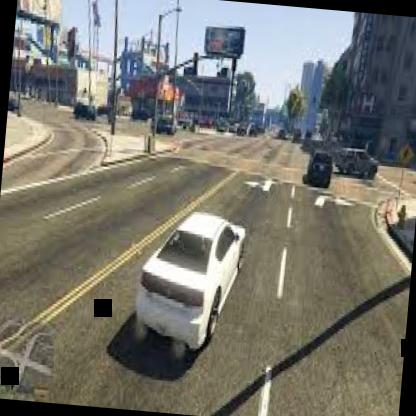car: (116, 189, 256, 363), (326, 122, 390, 190), (284, 138, 346, 206), (148, 110, 184, 145)
